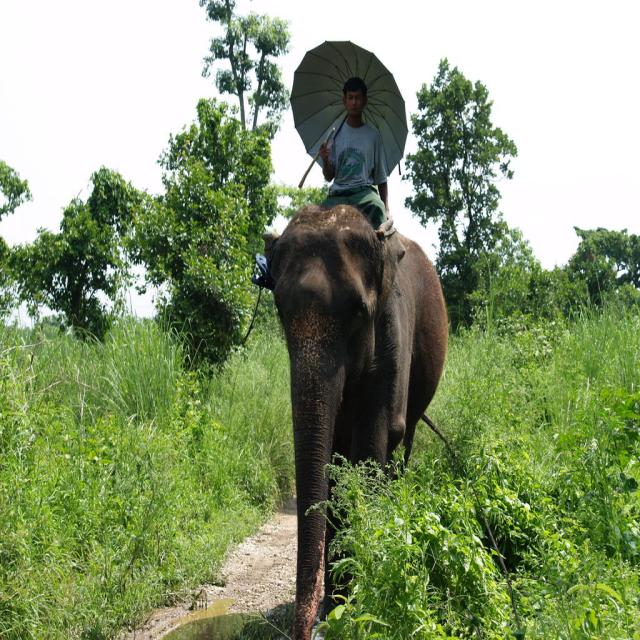Elephant: (251, 202, 454, 638)
person: (317, 76, 391, 232)
